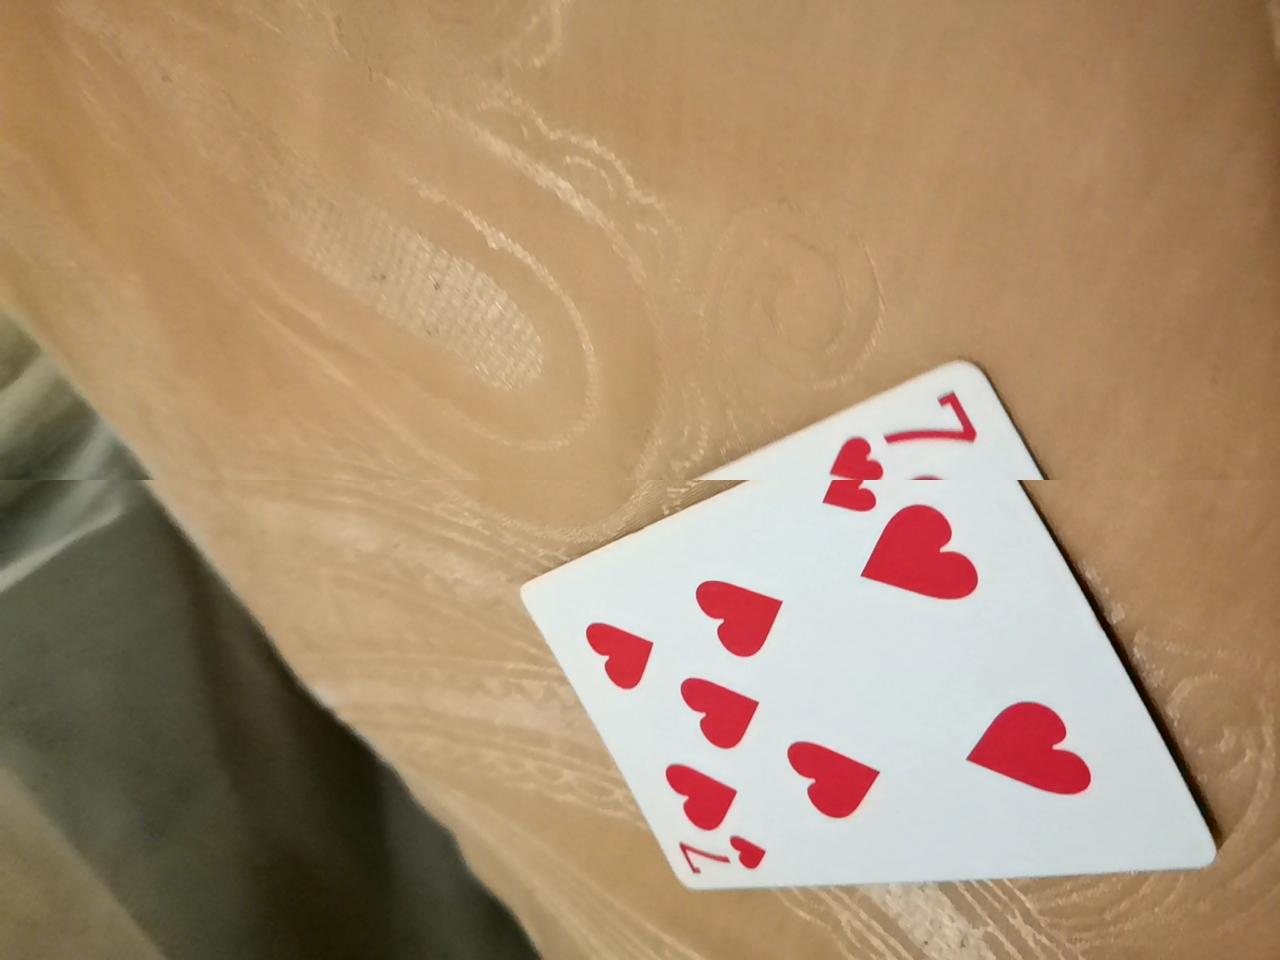hx 7: (509, 360, 1222, 889)
